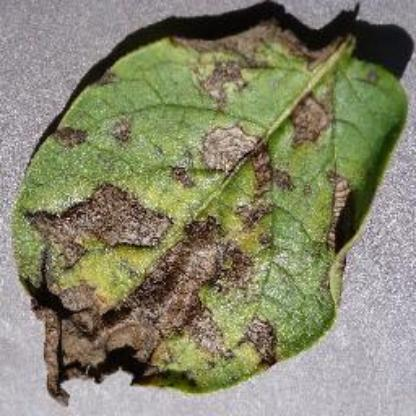Early-Blight: (12, 2, 414, 410)
